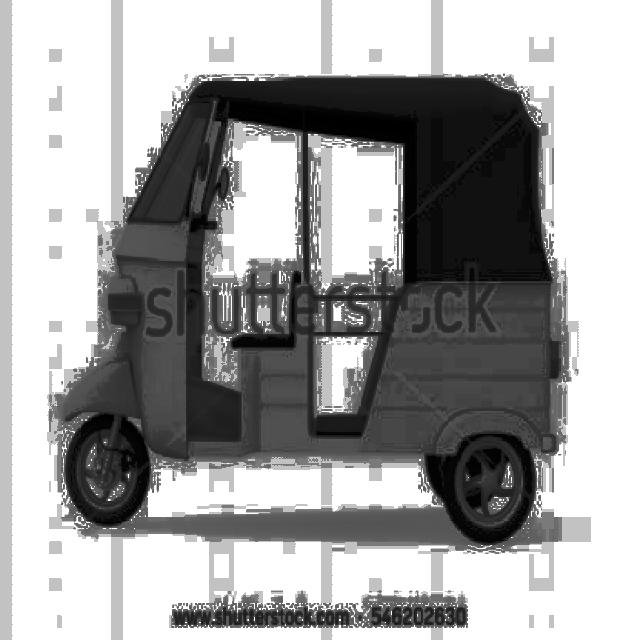Auto-Rickshaw: (54, 78, 573, 550)
